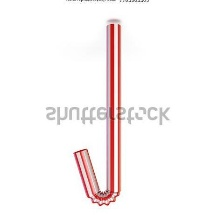drinking_straw: (67, 14, 131, 212)
